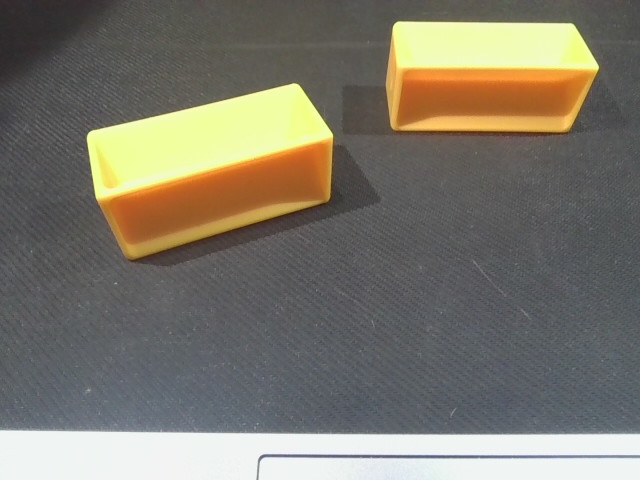YellowSample: (68, 77, 341, 261), (382, 15, 606, 151)
